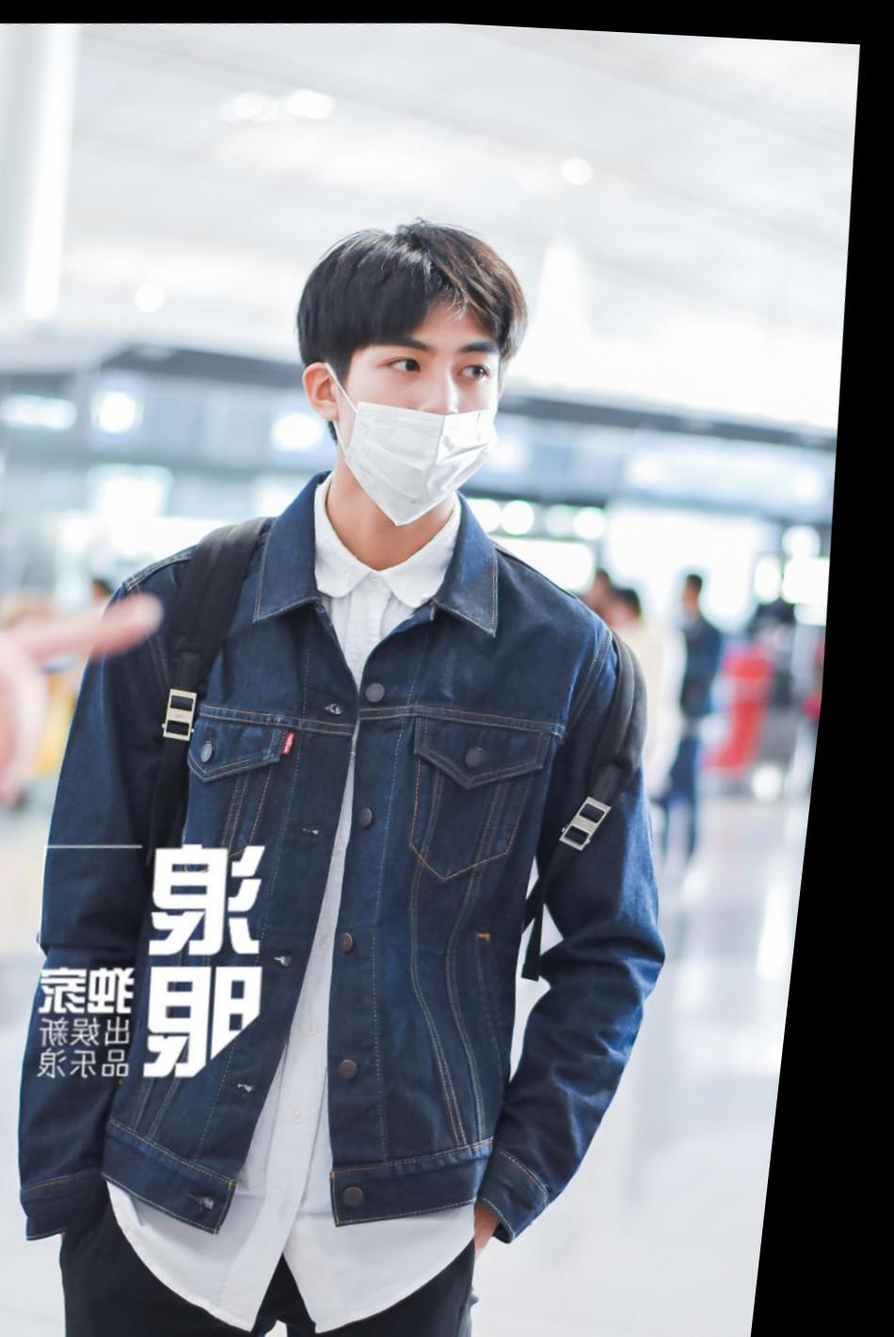WRONG: (335, 302, 523, 525)
